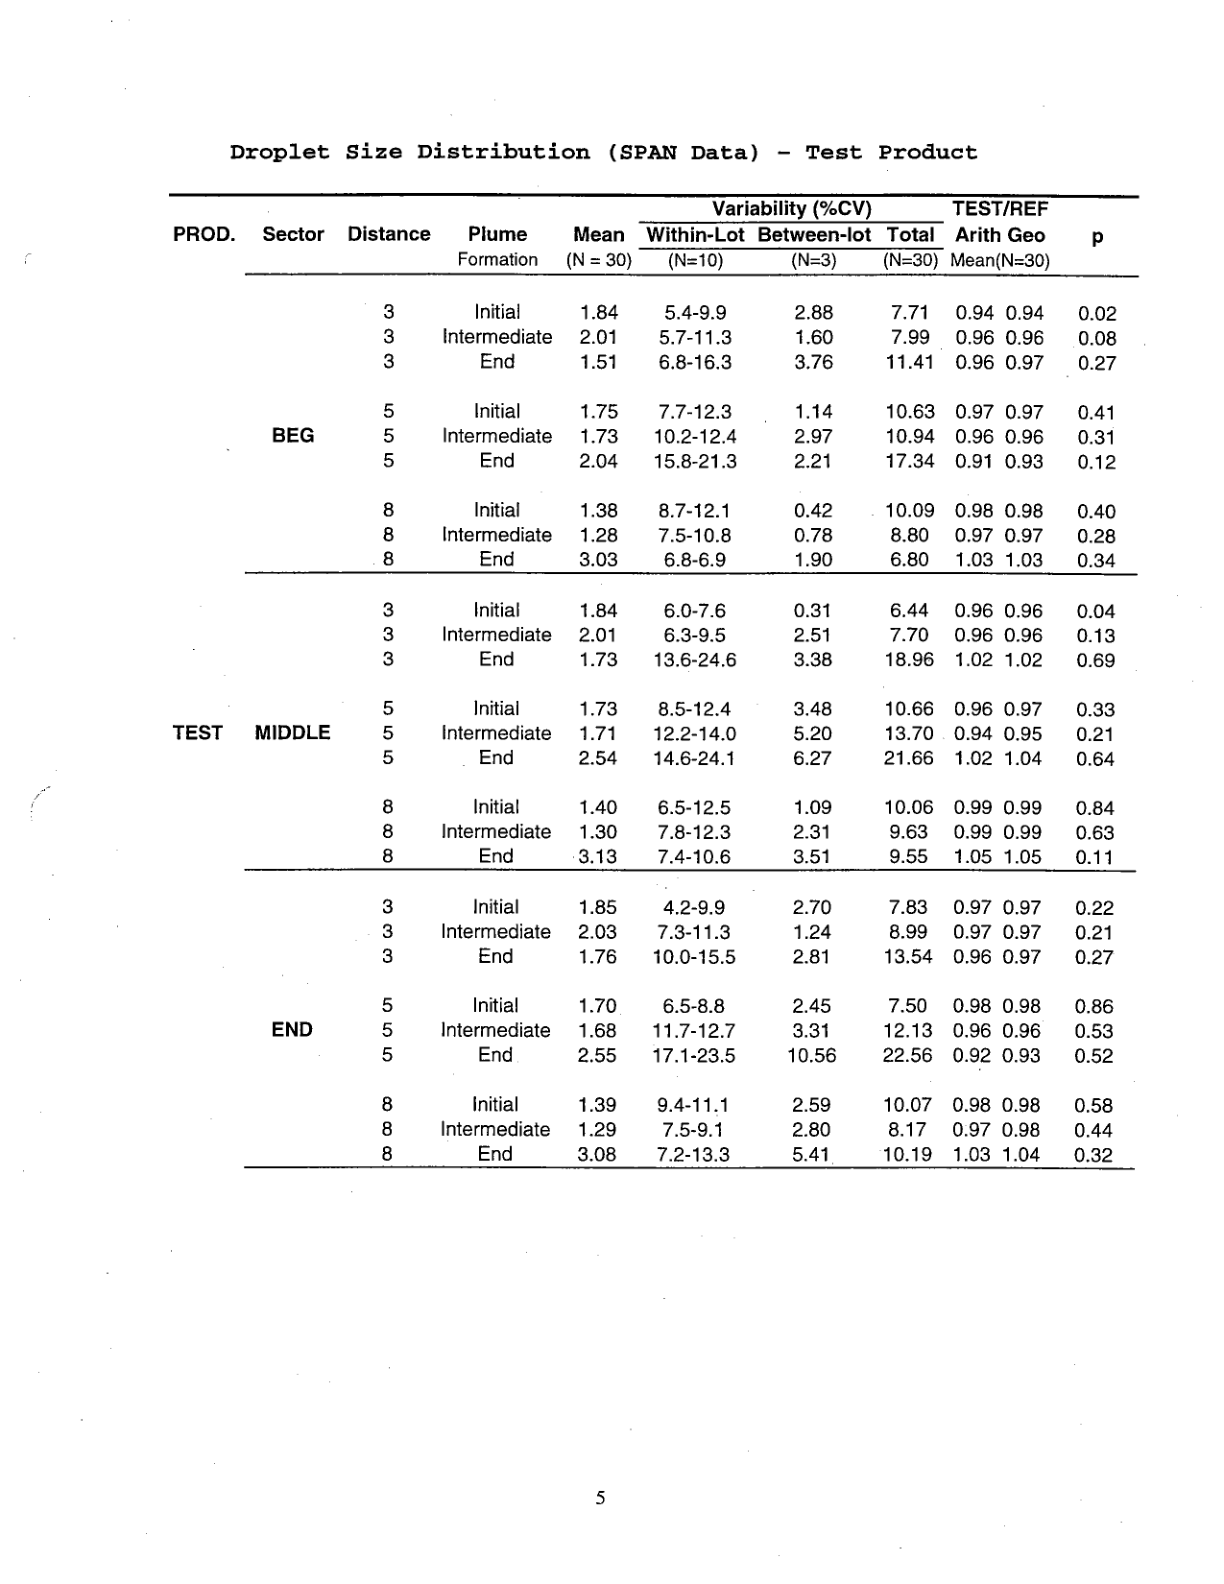partial_lined_merged_cells: (162, 192, 1146, 1175)
